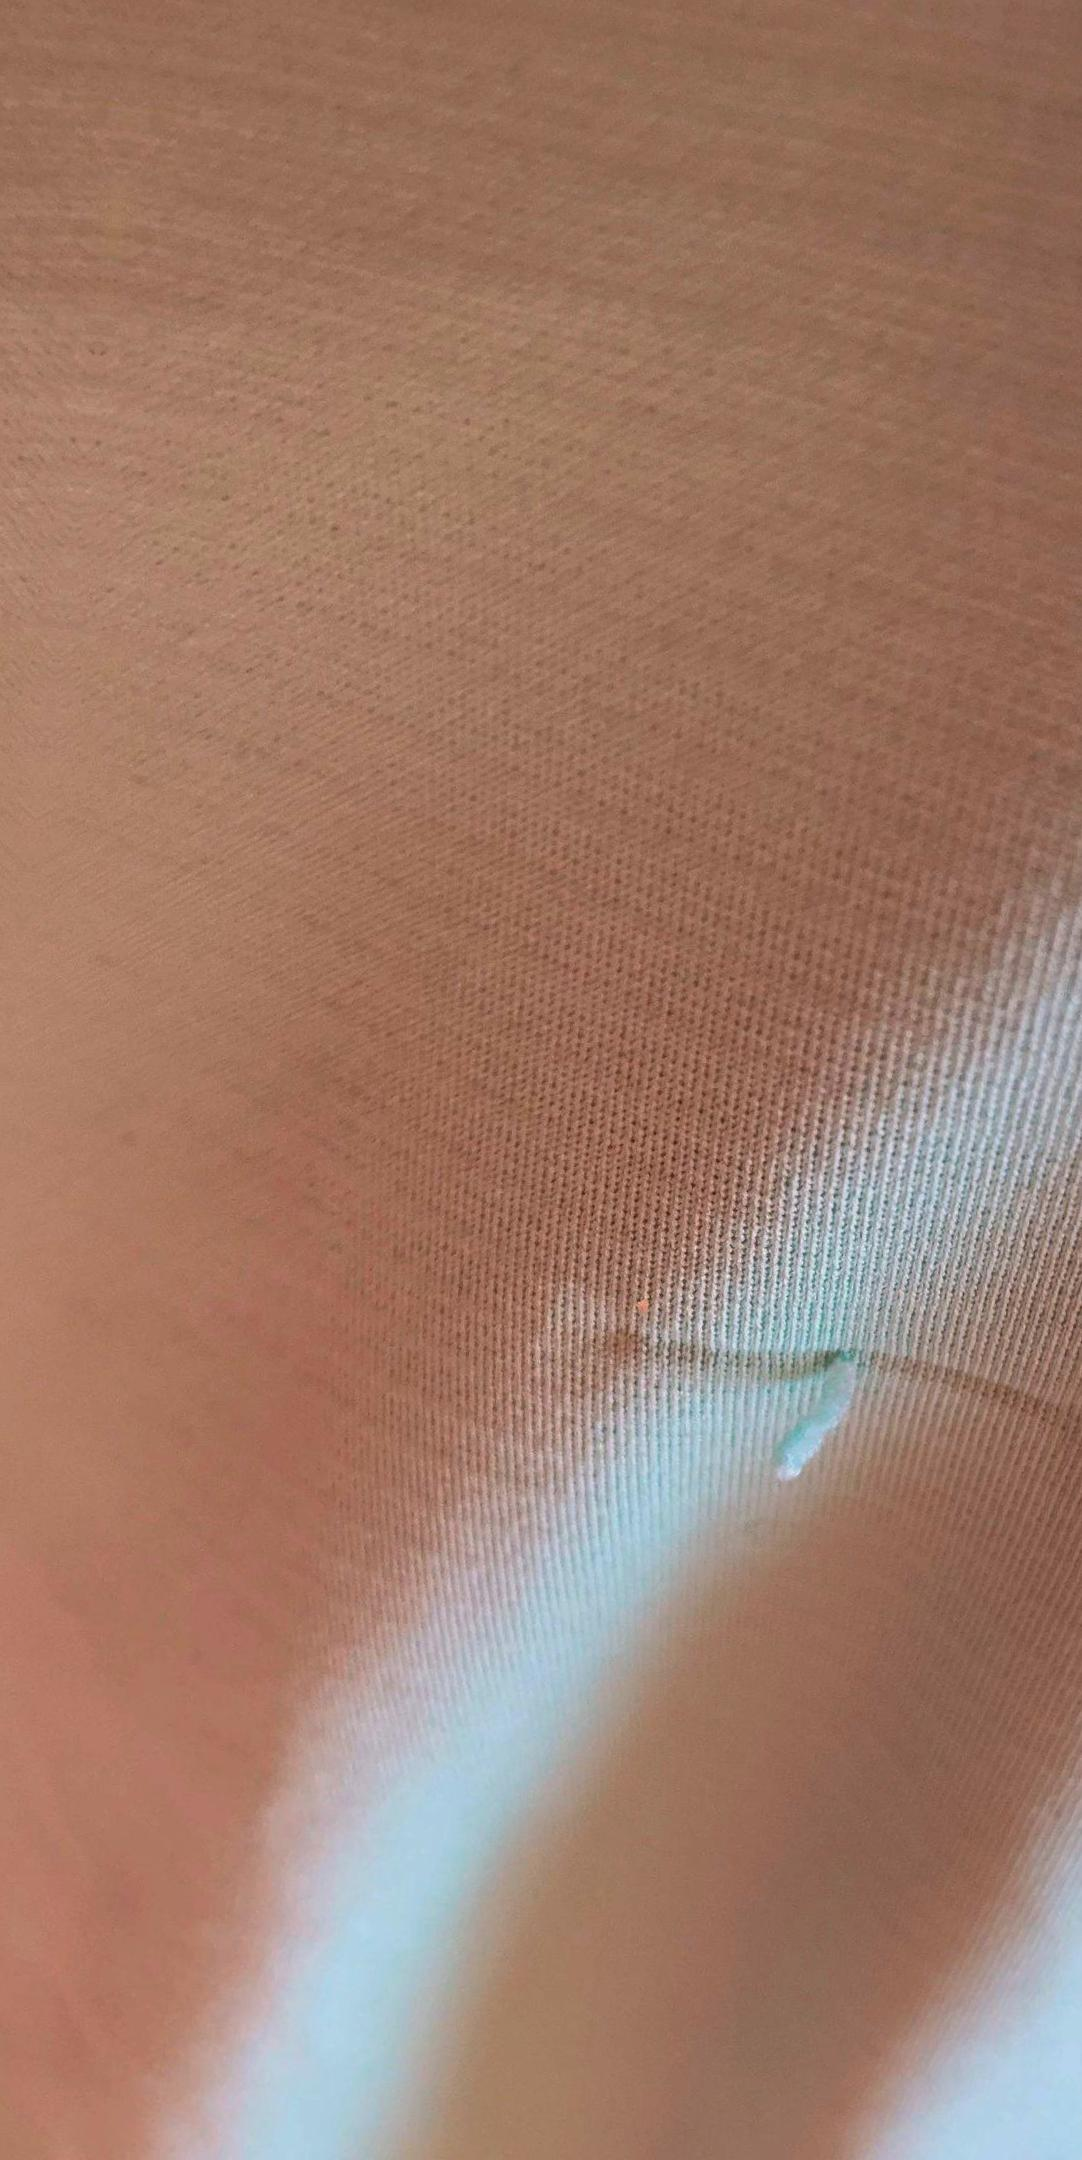snag: (684, 1283, 914, 1538)
